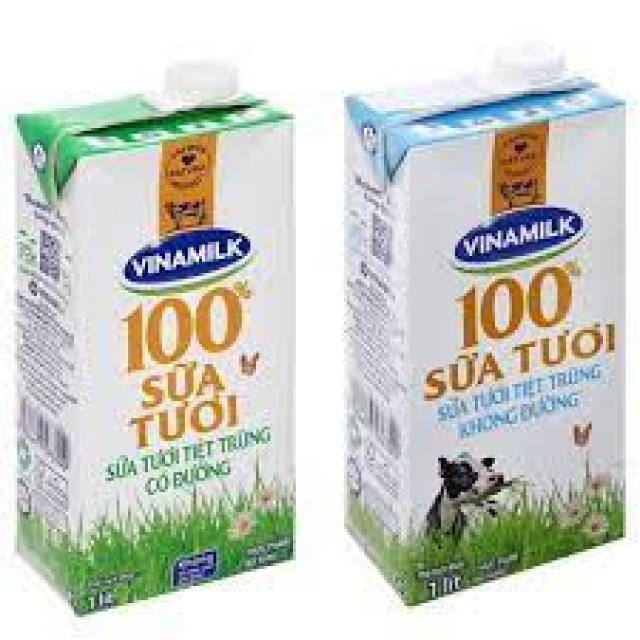non_white_jug: (10, 54, 323, 595), (337, 45, 627, 606)
